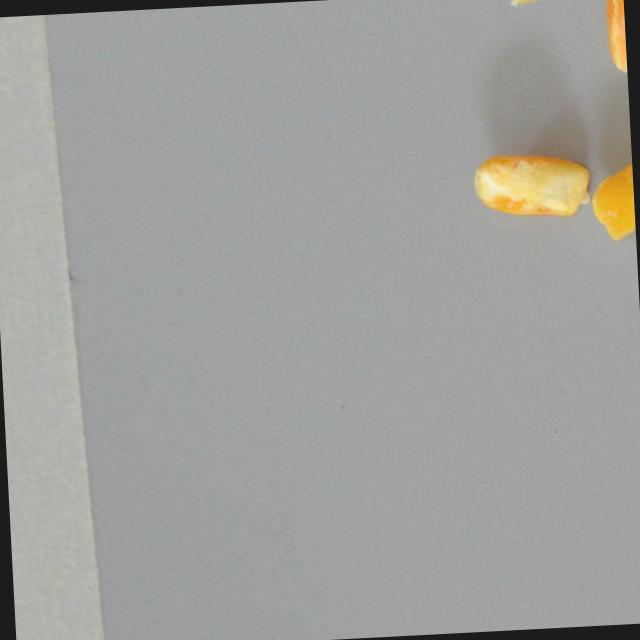no_desgerminado: (470, 148, 596, 221)
pelicula: (584, 141, 636, 243), (604, 0, 628, 76)
